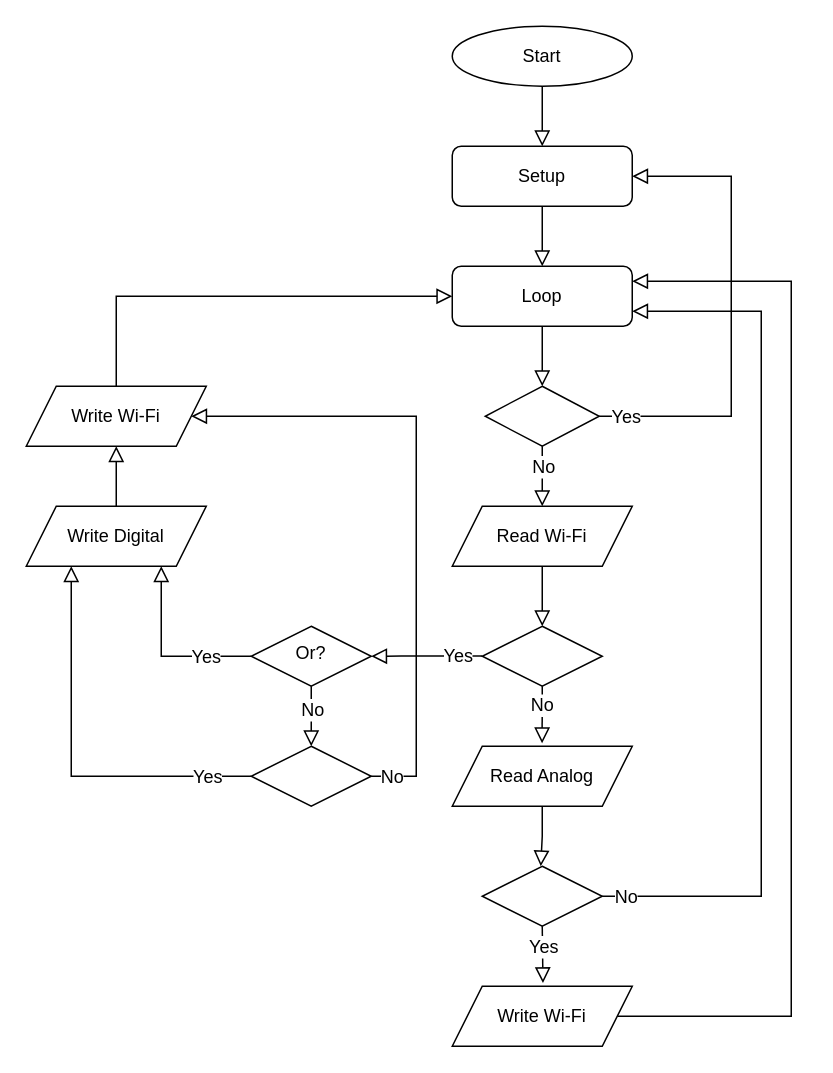
The diagram is 833 pixels wide and 1073 high, and some of its shapes have lost their labels. The centre of each missing label's shape, as x and y in pixels:
Cr?: the point at 310,775
Detected?: the point at 541,895
Error?: the point at 541,415
Flags?: the point at 541,655
